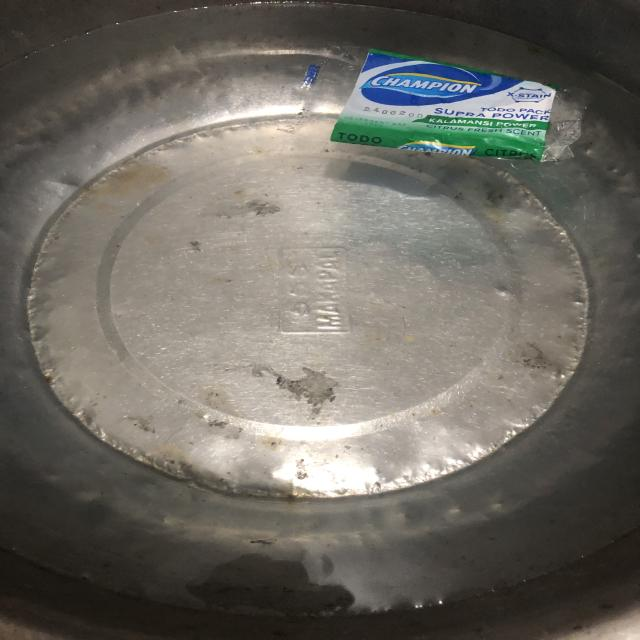Plastic Wrapper: (287, 41, 599, 181)
